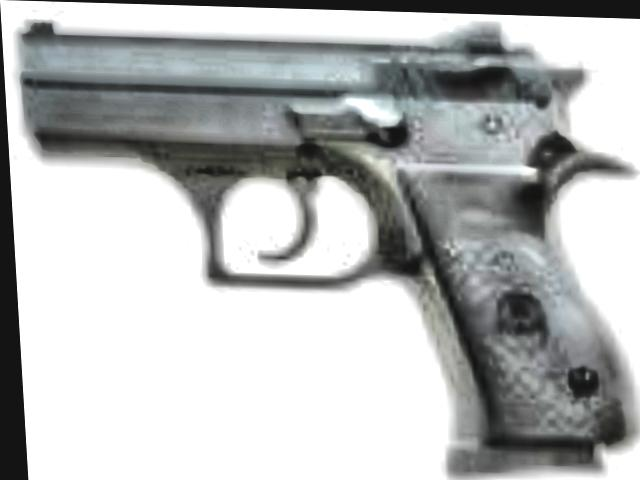pistol: (4, 0, 640, 479)
